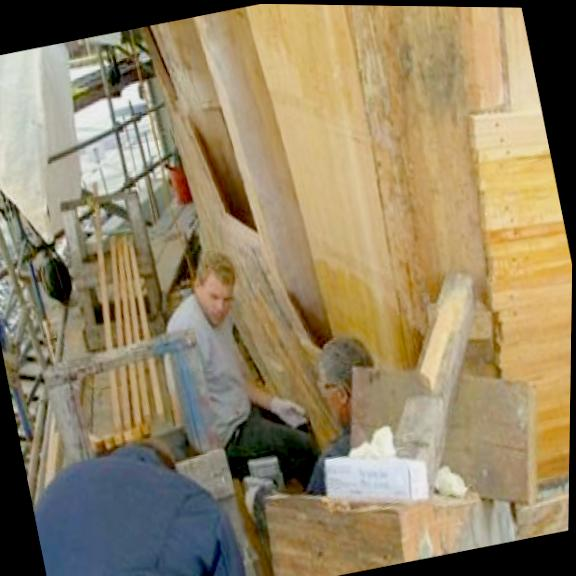no_safety_vest: (150, 288, 261, 441)
